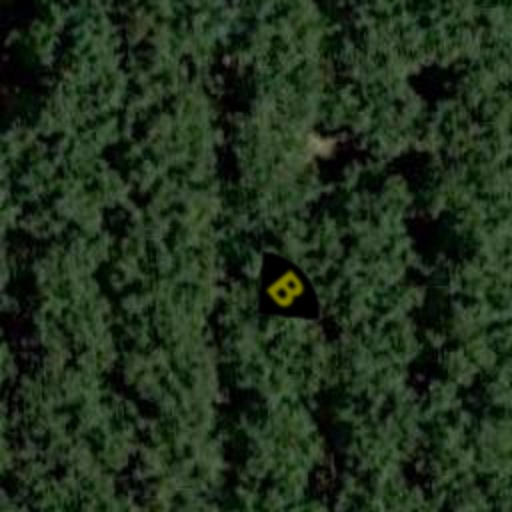quarter_circle: (224, 228, 348, 352)
